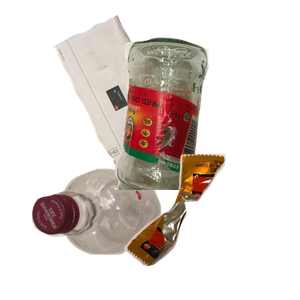glass: (112, 35, 300, 215)
paper: (51, 13, 230, 186)
plastic: (29, 166, 183, 300)
trash: (122, 151, 300, 300)
